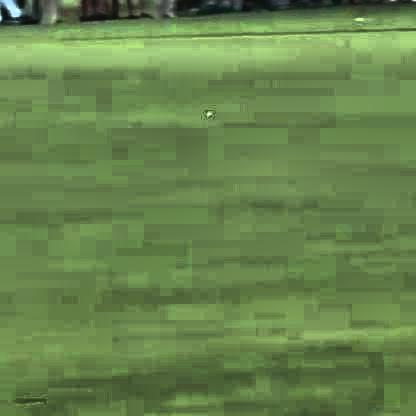golfball: (203, 109, 210, 114)
